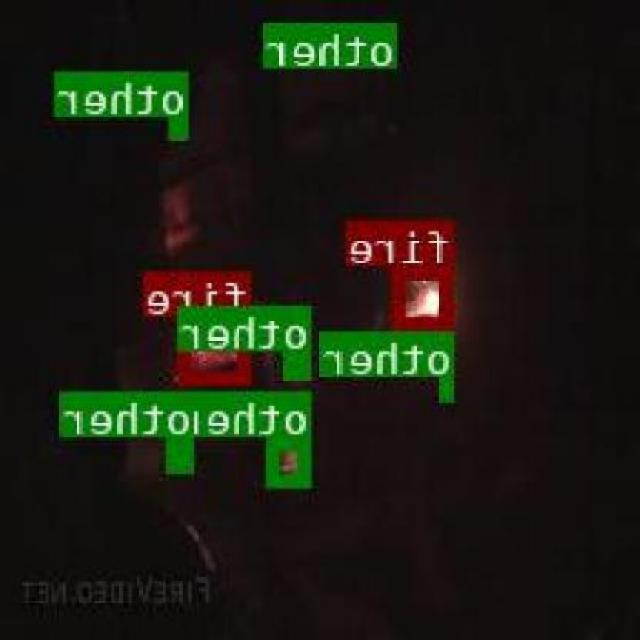Fire: (180, 316, 252, 381), (395, 263, 454, 328)
